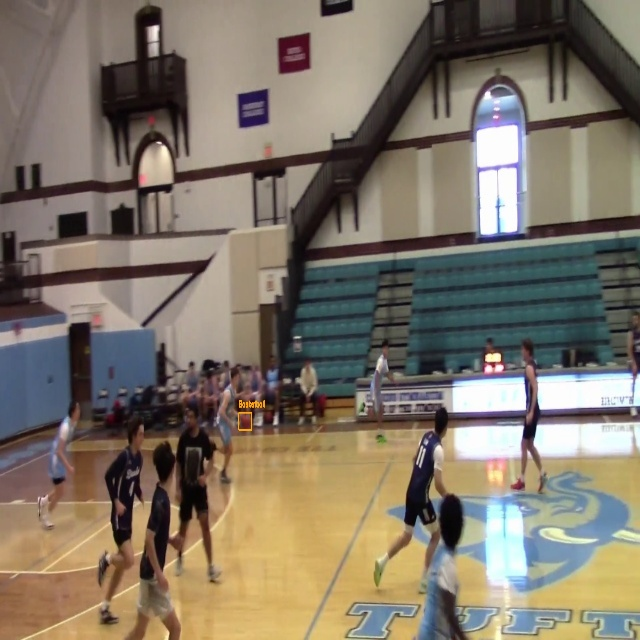Basketball: (239, 413, 252, 430)
